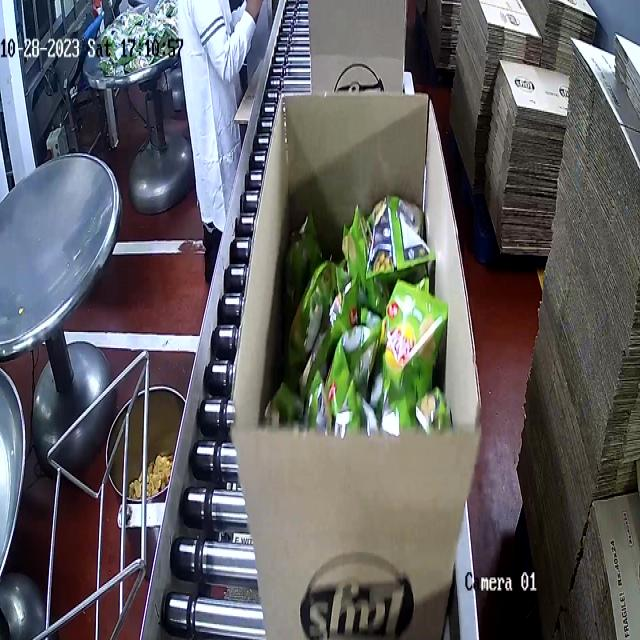YOGURT_HERB: (265, 180, 449, 433)
